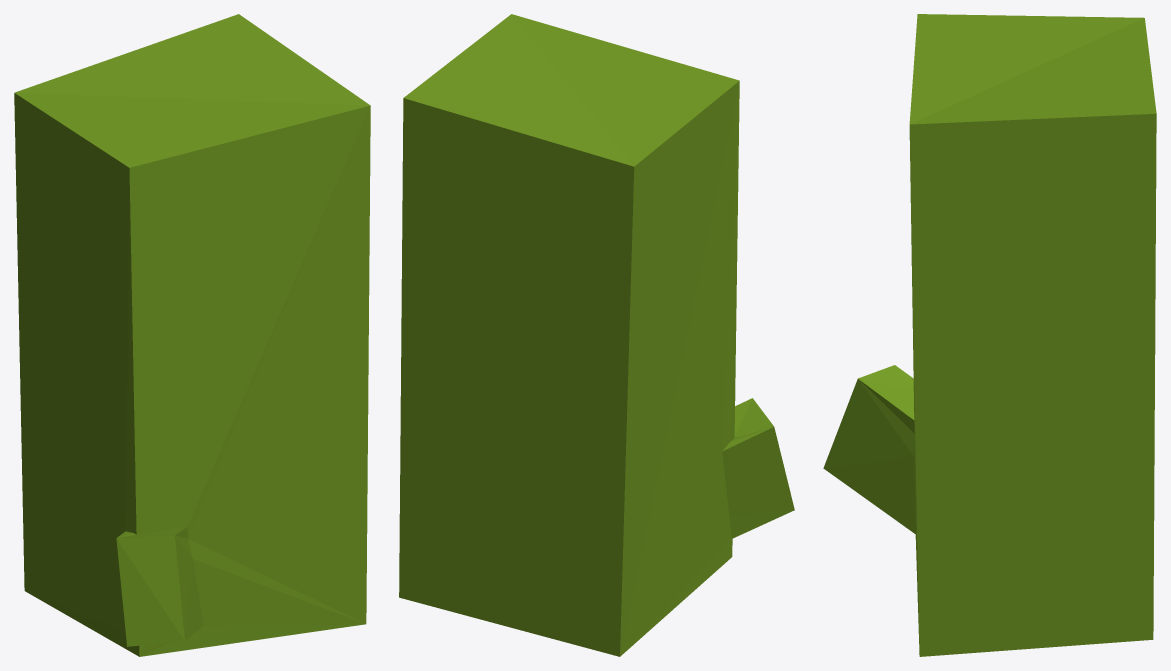
3 views of the same model, side by side, from view 1: azimuth 30°, elevation 25°; view 2: azimuth 150°, elevation 25°; view 3: azimuth 270°, elevation 25° (orthographic). The views are drawn at different scales.
Parts seen in each view (by area): view 1: 667_Cube.2682; view 2: 667_Cube.2682; view 3: 667_Cube.2682.
Boxes of the visible parts, x1,y1,x2,y2 form: 667_Cube.2682: (14,14,370,656); 667_Cube.2682: (399,14,794,656); 667_Cube.2682: (823,14,1156,656).
Size of the model in its own units: 6.77 by 12.94 by 7.17.
